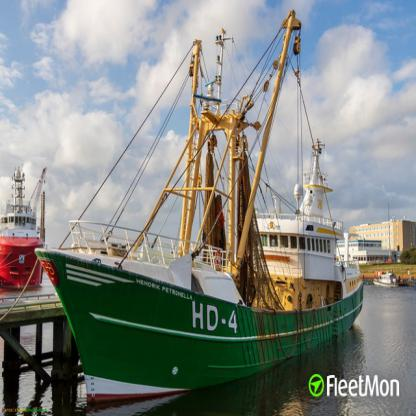Fishing Boat: (35, 8, 364, 402), (0, 165, 47, 291)
Patrol Boat: (372, 272, 400, 290)
